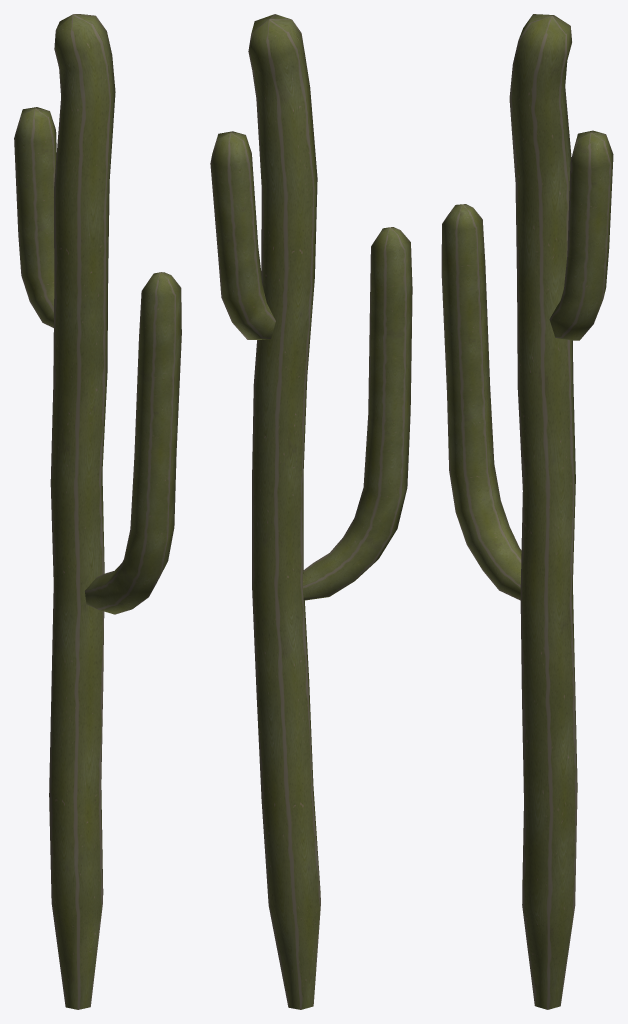
The model's file is miracle-cactus-1.glb.
3 views of the same model, side by side, from view 1: azimuth 90°, elevation 25°; view 2: azimuth 150°, elevation 25°; view 3: azimuth 270°, elevation 25° (orthographic). The views are drawn at different scales.
Visible parts, largest first — view 1: Single_cactus_medium_1_LOD1_Cactus_material_0; view 2: Single_cactus_medium_1_LOD1_Cactus_material_0; view 3: Single_cactus_medium_1_LOD1_Cactus_material_0.
Boxes of the visible parts, x1,y1,x2,y2 form: Single_cactus_medium_1_LOD1_Cactus_material_0: (14, 14, 181, 1009); Single_cactus_medium_1_LOD1_Cactus_material_0: (210, 14, 412, 1009); Single_cactus_medium_1_LOD1_Cactus_material_0: (441, 14, 613, 1009).
Bounding box in the file's own units: 0.1189 × 0.82 × 0.1276.
1 material, 1 textured.
